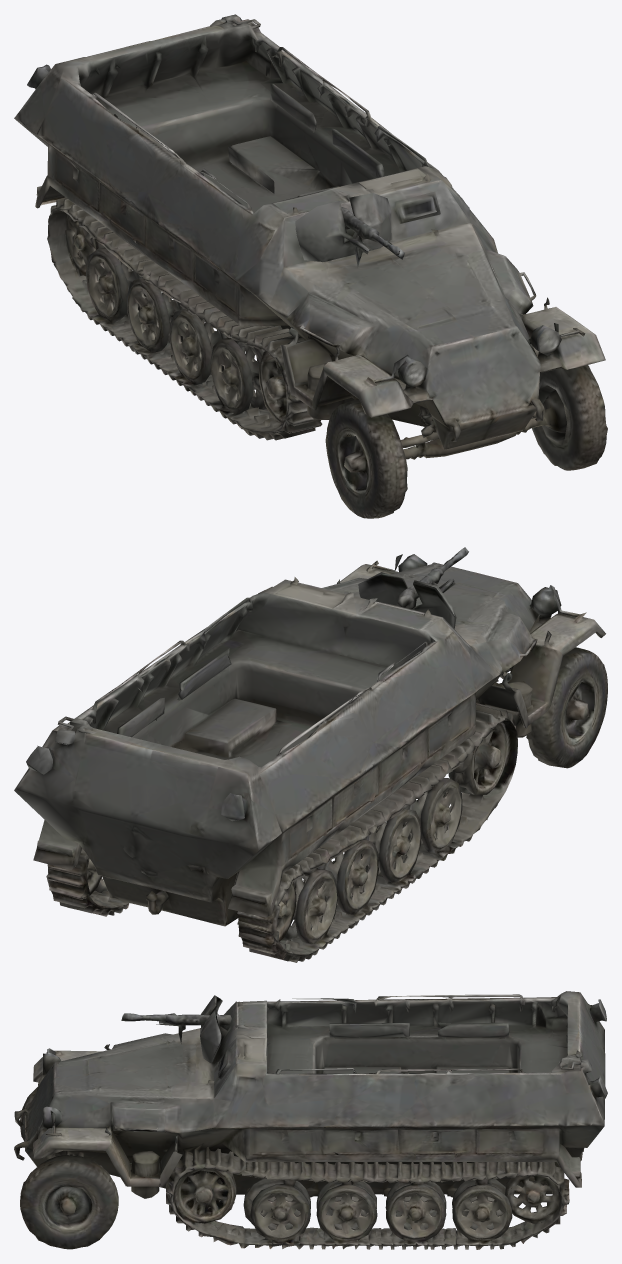
Rendered from prop_halftrack.glb.
3 views of the same model, one above another, from view 1: azimuth 30°, elevation 25°; view 2: azimuth 150°, elevation 25°; view 3: azimuth 270°, elevation 25° (orthographic). The views are drawn at different scales.
Parts seen in each view (by area): view 1: tripo_node_8bfbd0ec-4f7d-4cc4-a7b8-9cc58eb9597b; view 2: tripo_node_8bfbd0ec-4f7d-4cc4-a7b8-9cc58eb9597b; view 3: tripo_node_8bfbd0ec-4f7d-4cc4-a7b8-9cc58eb9597b.
Boxes of the visible parts, x1,y1,x2,y2 form: tripo_node_8bfbd0ec-4f7d-4cc4-a7b8-9cc58eb9597b: (14,14,607,518); tripo_node_8bfbd0ec-4f7d-4cc4-a7b8-9cc58eb9597b: (14,547,607,962); tripo_node_8bfbd0ec-4f7d-4cc4-a7b8-9cc58eb9597b: (14,991,607,1249).
Size of the model in its own units: 0.3833 by 0.3425 by 0.9807.
1 material, 1 textured.
